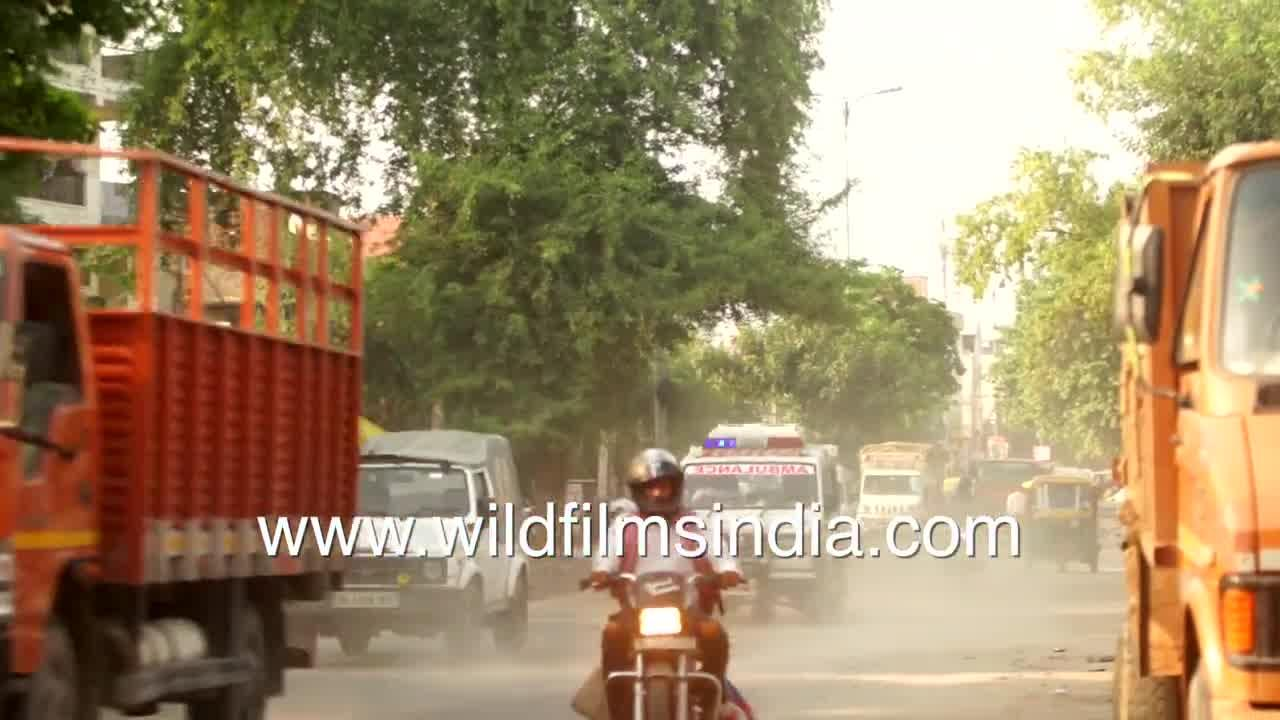AMBULANCE: (662, 416, 861, 526)
